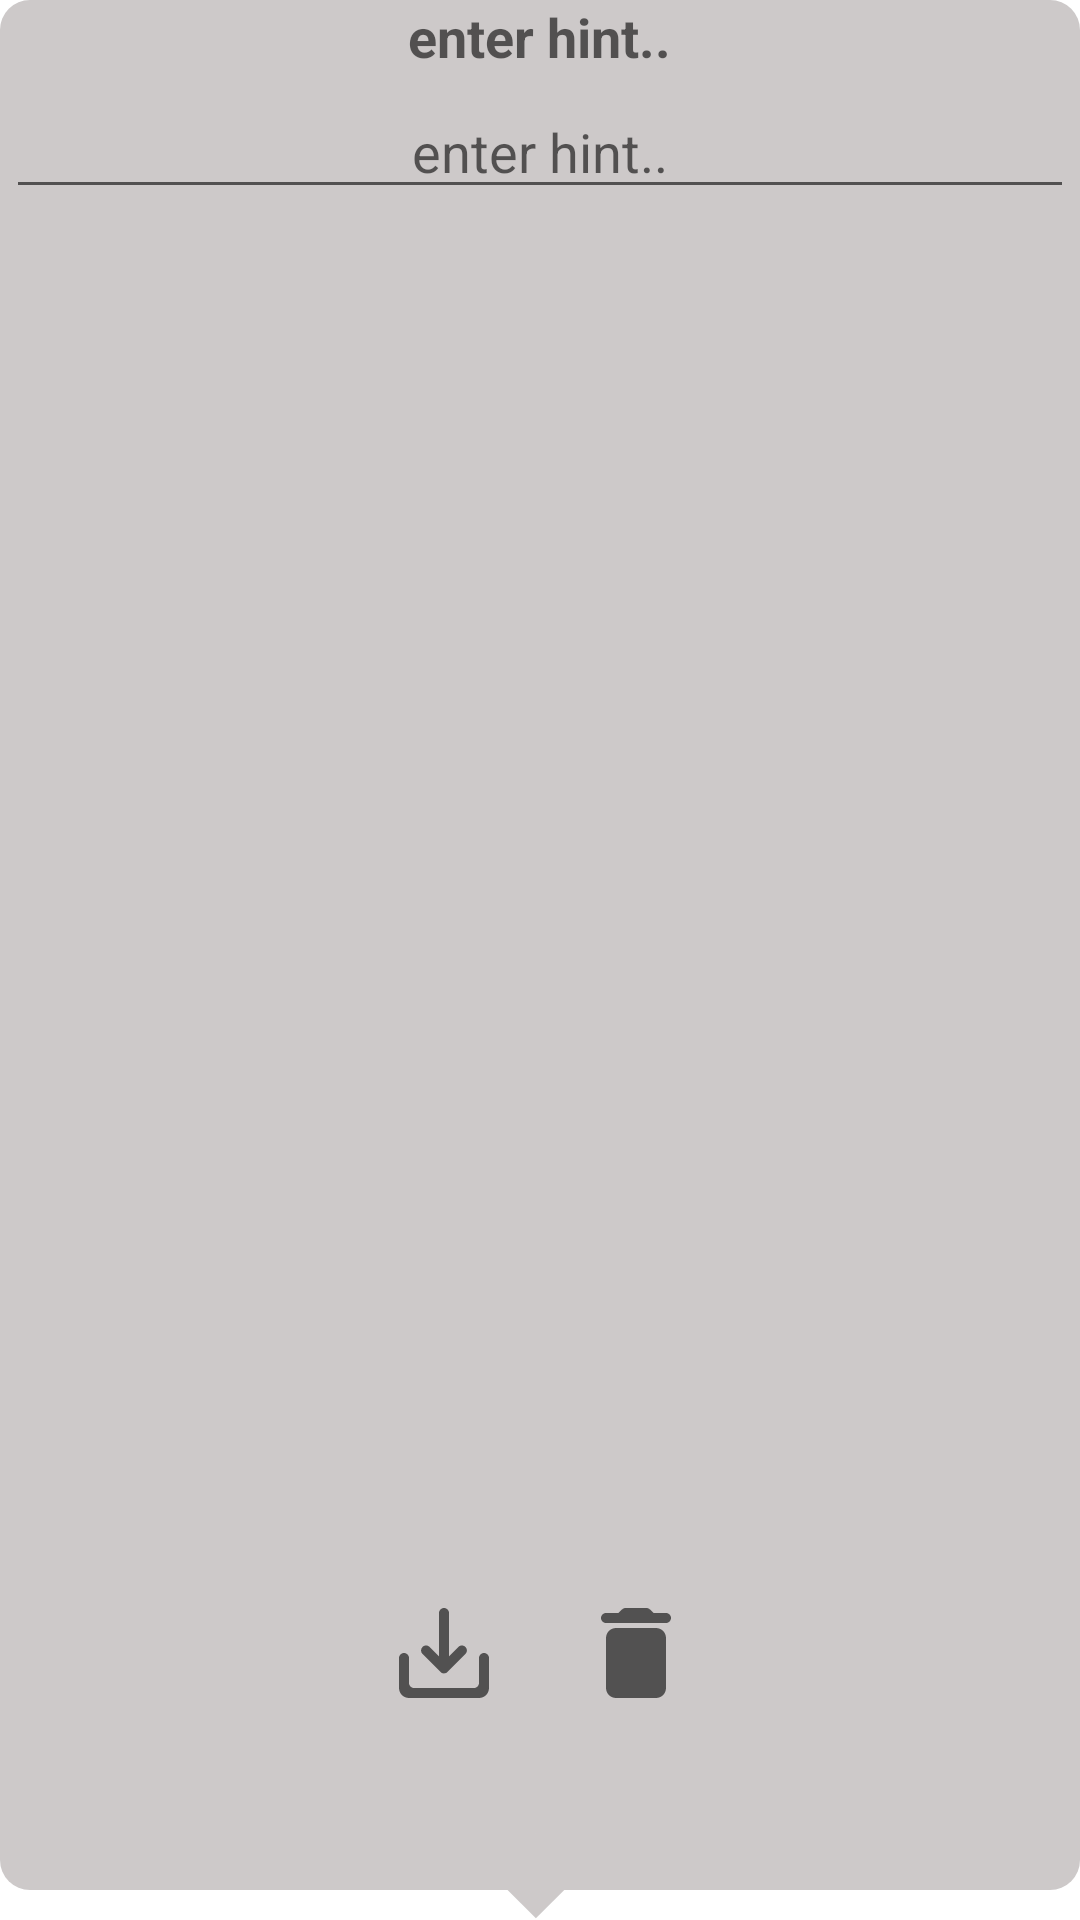

Locate icon controls on the screen. Image size 1080 x 1920, boxes as [x1,y1,x2,y2].
delete: [601,1608,671,1698]
save: [399,1608,489,1698]
